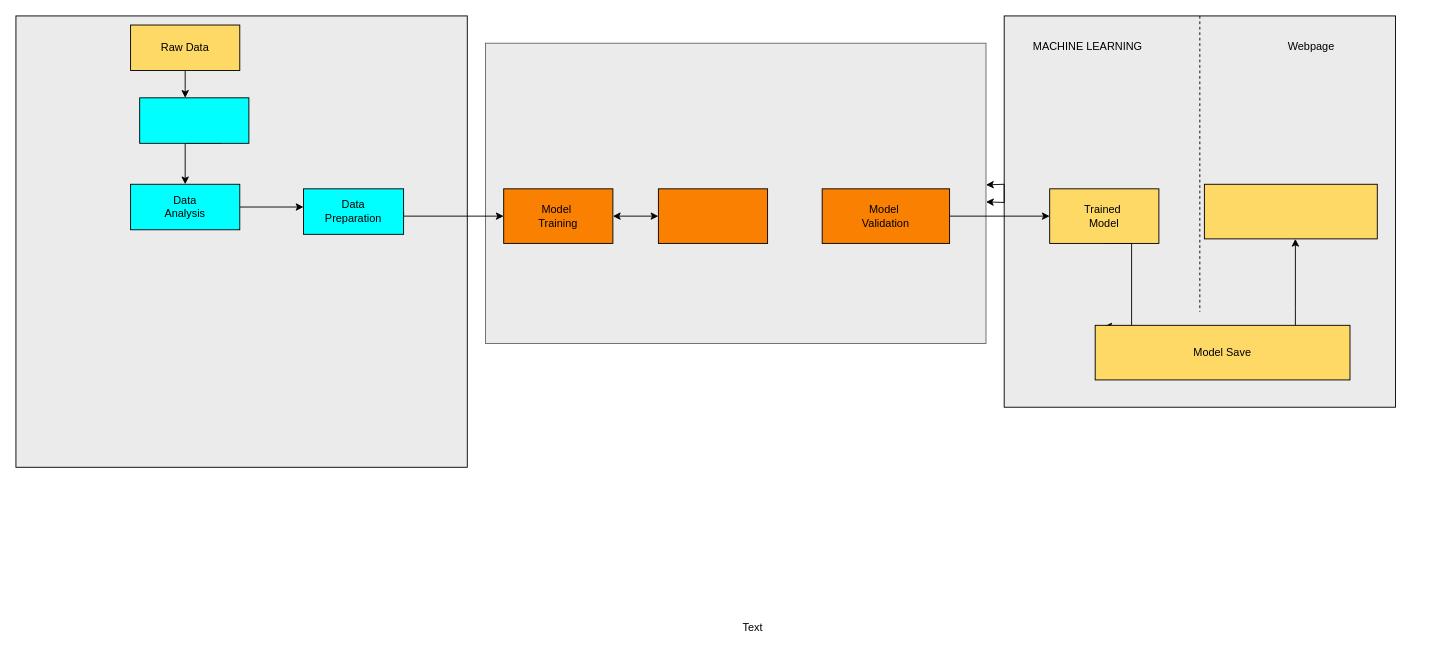
The diagram is 1439 pixels wide and 652 high, and some of its shapes have lost their labels. The centre of each missing label's shape, as x and y in pixels:
Data Extraction: point 194,120
Model Evaluation: point 712,215
Model Serving: point 1290,211
